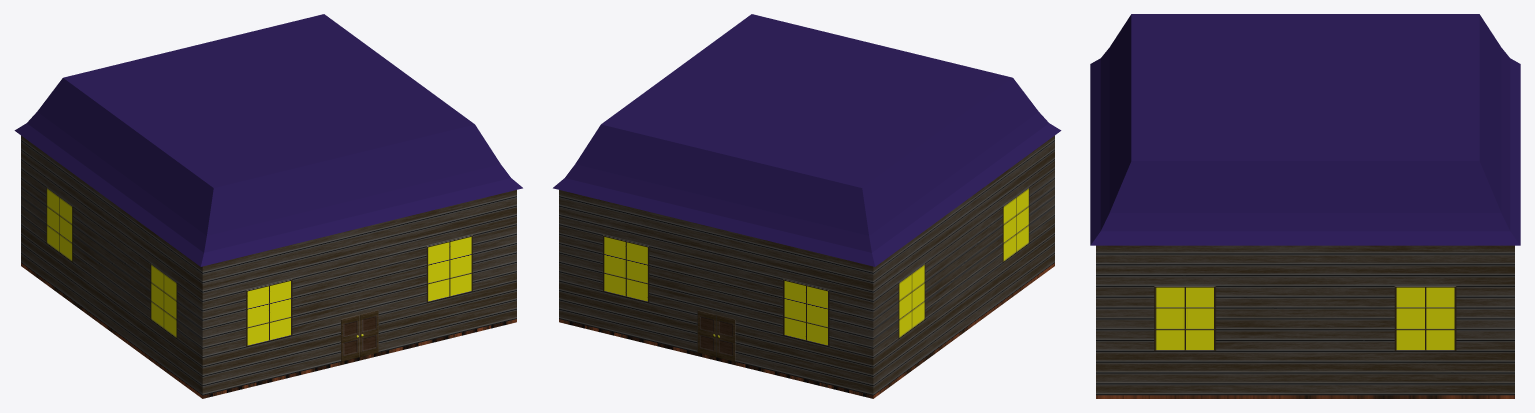
File: haunted_house_rear_door.glb
The picture shows the model from 3 angles, left to right: view 1: azimuth 30°, elevation 25°; view 2: azimuth 150°, elevation 25°; view 3: azimuth 270°, elevation 25°; orthographic projection. The views are drawn at different scales.
Visible parts, largest first — view 1: House, RightDoor, LeftDoor; view 2: House, RightDoor_Back, LeftDoor_Back; view 3: House.
Boxes of the visible parts, left/top/right/bottom form: House: left=14, top=14, right=522, bottom=398; RightDoor: left=359, top=310, right=378, bottom=357; LeftDoor: left=341, top=314, right=359, bottom=361; House: left=553, top=14, right=1061, bottom=398; RightDoor_Back: left=697, top=310, right=716, bottom=357; LeftDoor_Back: left=716, top=314, right=735, bottom=361; House: left=1090, top=14, right=1520, bottom=398.
Bounding box in the file's own units: 103 × 58.74 × 103.
Materials: 7 (6 with a texture image).
